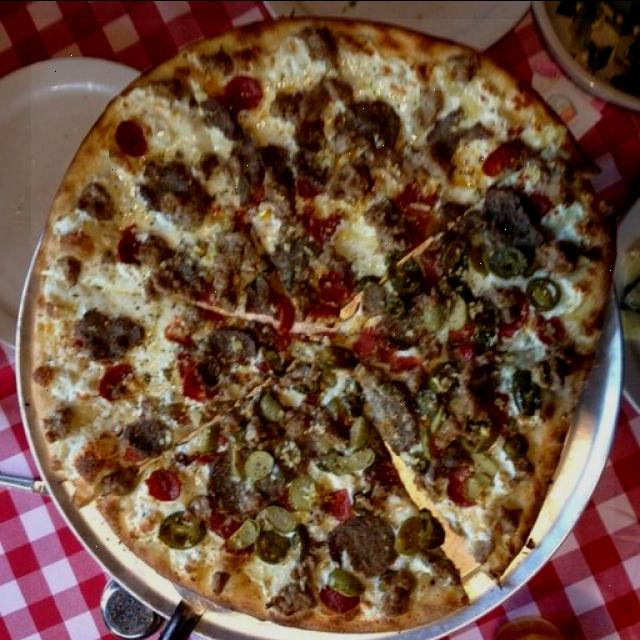pepperoni: (273, 274, 354, 334), (198, 62, 272, 116), (167, 331, 217, 406), (476, 133, 524, 189), (94, 354, 144, 407), (315, 473, 361, 525), (110, 113, 162, 157), (104, 222, 151, 270), (439, 320, 487, 364), (321, 583, 375, 618), (433, 450, 463, 512), (146, 464, 182, 504), (190, 273, 225, 303)
pizza: (31, 18, 614, 630)
